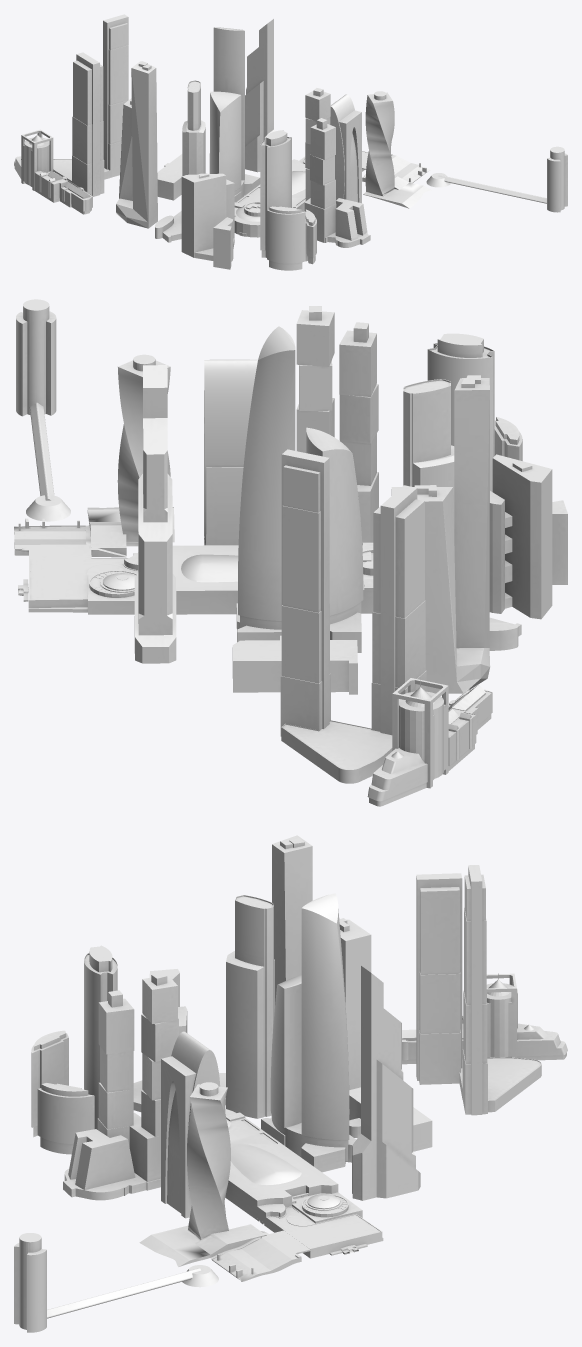
Rendered from CITY-AO-micro.gltf.
The picture shows the model from 3 angles, top to bottom: view 1: azimuth 30°, elevation 25°; view 2: azimuth 150°, elevation 25°; view 3: azimuth 270°, elevation 25°; orthographic projection. The views are drawn at different scales.
Visible parts, largest first — view 1: citi-aligned5; view 2: citi-aligned5; view 3: citi-aligned5.
Part boxes in pixels (x1=…): citi-aligned5: x1=14, y1=14, x2=567, y2=270; citi-aligned5: x1=14, y1=299, x2=567, y2=806; citi-aligned5: x1=14, y1=835, x2=567, y2=1332.
Size of the model in its own units: 907 by 373 by 741.
Materials: 1 (1 with a texture image).
